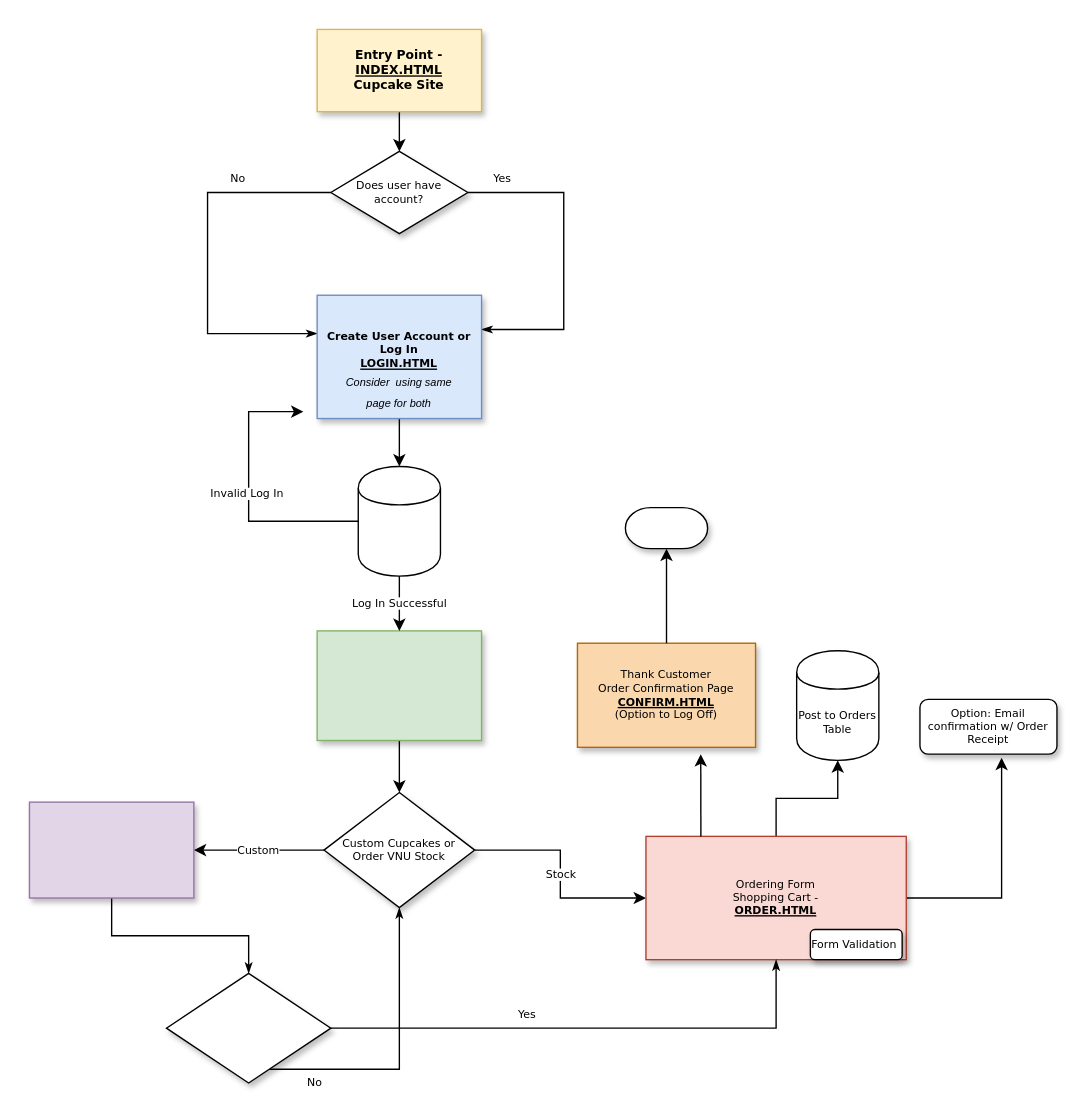
This 1089x1117 diagram has some shape labels left out. Here are the shapes that lost their labels. From the top down, the centre of each, then its label:
At (x=398, y=520): "MySQL Validate User Credentials".
At (x=667, y=529): "End".
At (x=400, y=687): "WELCOME.HTML - Services -Ordering Info".
At (x=112, y=851): "Build Your Own Cupcake CUSTOM.HTML".
At (x=249, y=1030): "Satisfied w/ Cupcake Design?".
